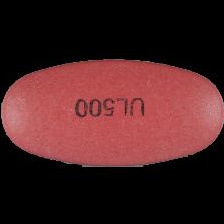63629-4278: (0, 0, 224, 224)
